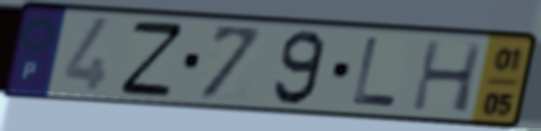4: (59, 14, 114, 97)
7: (201, 22, 269, 103)
9: (272, 28, 329, 107)
H: (408, 37, 487, 115)
L: (349, 35, 401, 110)
Z: (117, 19, 188, 98)
